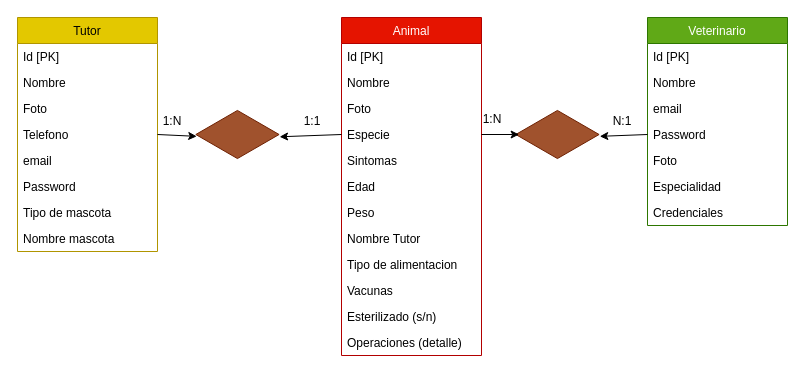
This 805x376 diagram has some shape labels left out. Here are the shapes that lost their labels. From the top down, the centre of each, then its label:
At (x=237, y=134): "Inscribe".
At (x=557, y=134): "Atiende".
